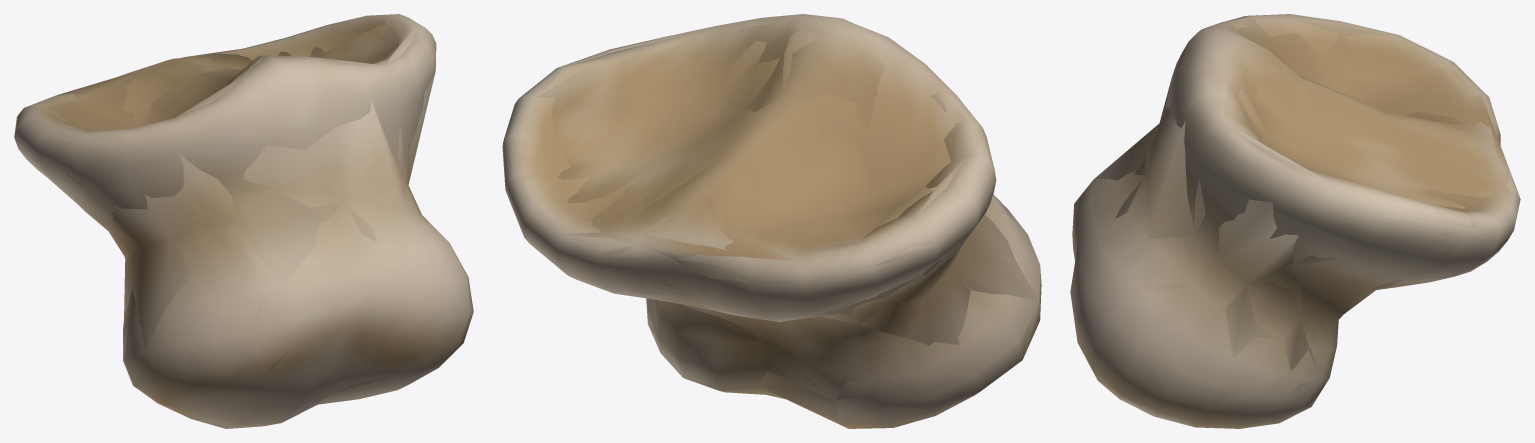
File: BR 2nd Phalanx.fbx
The picture shows the model from 3 angles, left to right: view 1: azimuth 30°, elevation 25°; view 2: azimuth 150°, elevation 25°; view 3: azimuth 270°, elevation 25°; orthographic projection. The views are drawn at different scales.
Visible parts, largest first — view 1: BR 2nd Phalanx, BR 2nd Phalanx low; view 2: BR 2nd Phalanx, BR 2nd Phalanx low; view 3: BR 2nd Phalanx, BR 2nd Phalanx low.
Boxes of the visible parts, left/top/right/bottom form: BR 2nd Phalanx: left=14, top=14, right=473, bottom=428; BR 2nd Phalanx low: left=14, top=15, right=445, bottom=428; BR 2nd Phalanx: left=502, top=14, right=1041, bottom=428; BR 2nd Phalanx low: left=504, top=20, right=1040, bottom=428; BR 2nd Phalanx: left=1070, top=14, right=1520, bottom=428; BR 2nd Phalanx low: left=1094, top=16, right=1519, bottom=415.
Bounding box in the file's own units: 7.15 × 6.03 × 6.77.
1 material, 1 textured.
